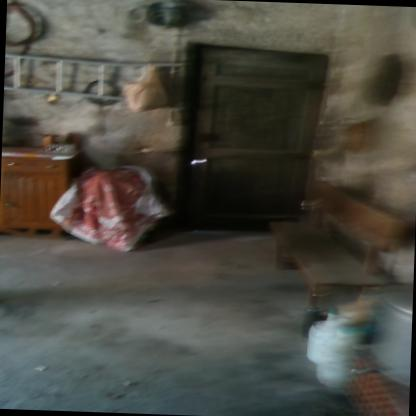closed: (167, 29, 342, 228)
